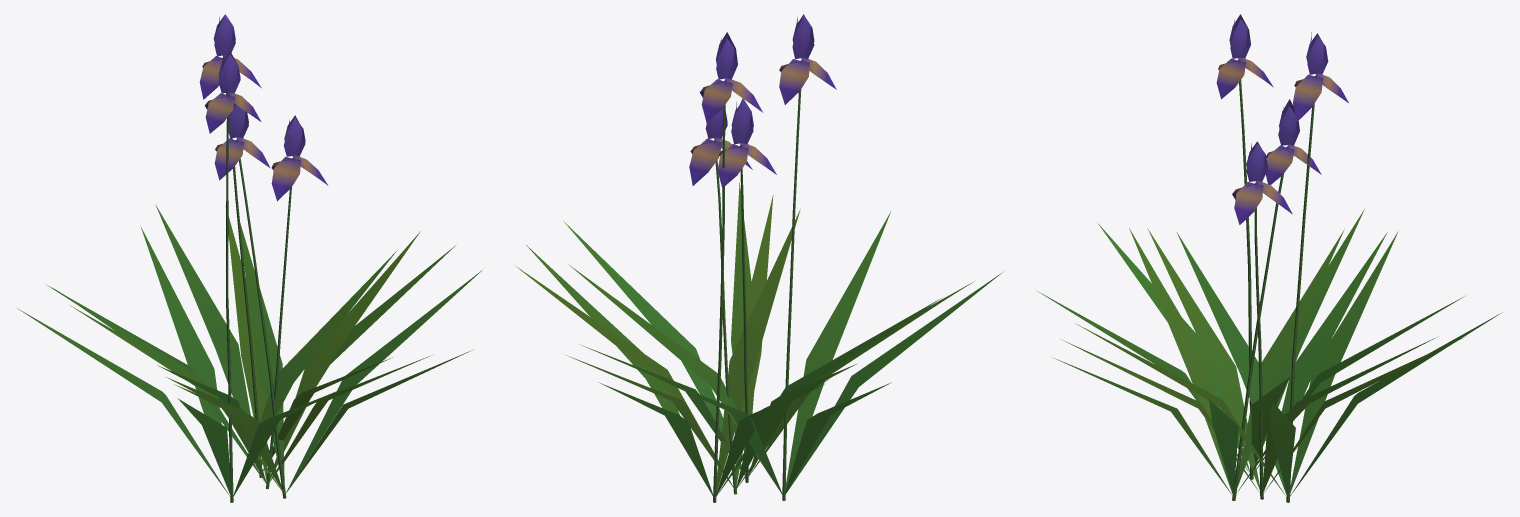
Rendered from flower-iris-b.lod0.glb.
The picture shows the model from 3 angles, left to right: view 1: azimuth 30°, elevation 25°; view 2: azimuth 150°, elevation 25°; view 3: azimuth 270°, elevation 25°; orthographic projection. The views are drawn at different scales.
Visible parts, largest first — view 1: flower-iris-b.lod0; view 2: flower-iris-b.lod0; view 3: flower-iris-b.lod0.
Boxes of the visible parts, <box> form: flower-iris-b.lod0: <box>17,14,484,502</box>; flower-iris-b.lod0: <box>516,14,1003,502</box>; flower-iris-b.lod0: <box>1036,14,1502,502</box>.
Size of the model in its own units: 0.7015 by 0.7784 by 0.7233.
